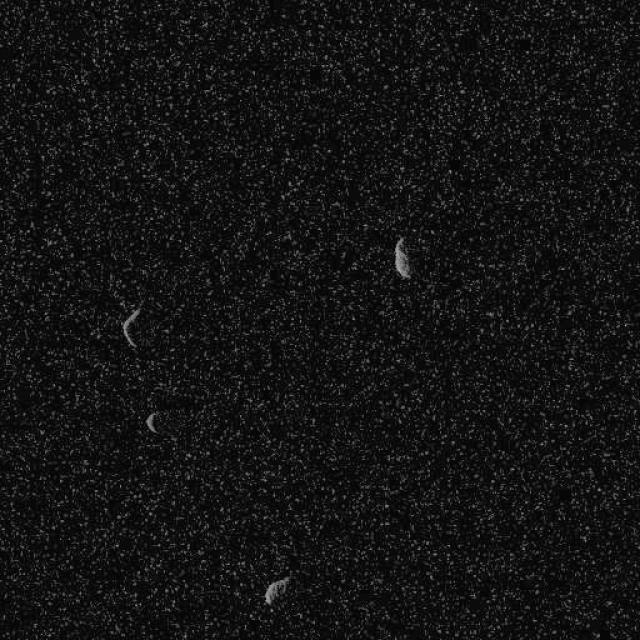D2: (0, 0, 639, 639), (120, 305, 142, 350), (392, 235, 412, 279), (262, 575, 290, 605), (144, 410, 160, 434)
